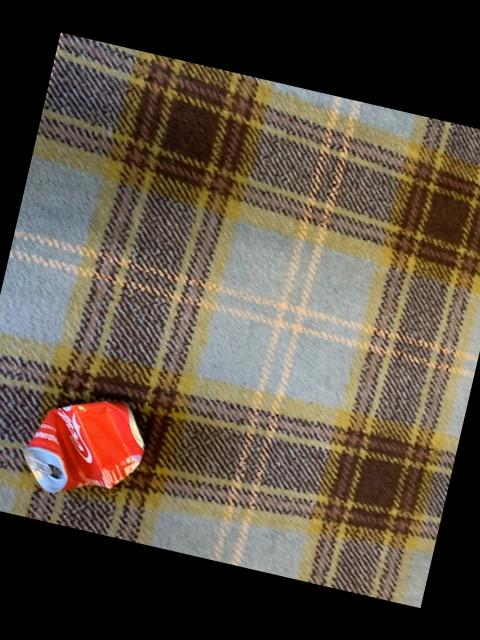metal: (20, 402, 140, 493)
